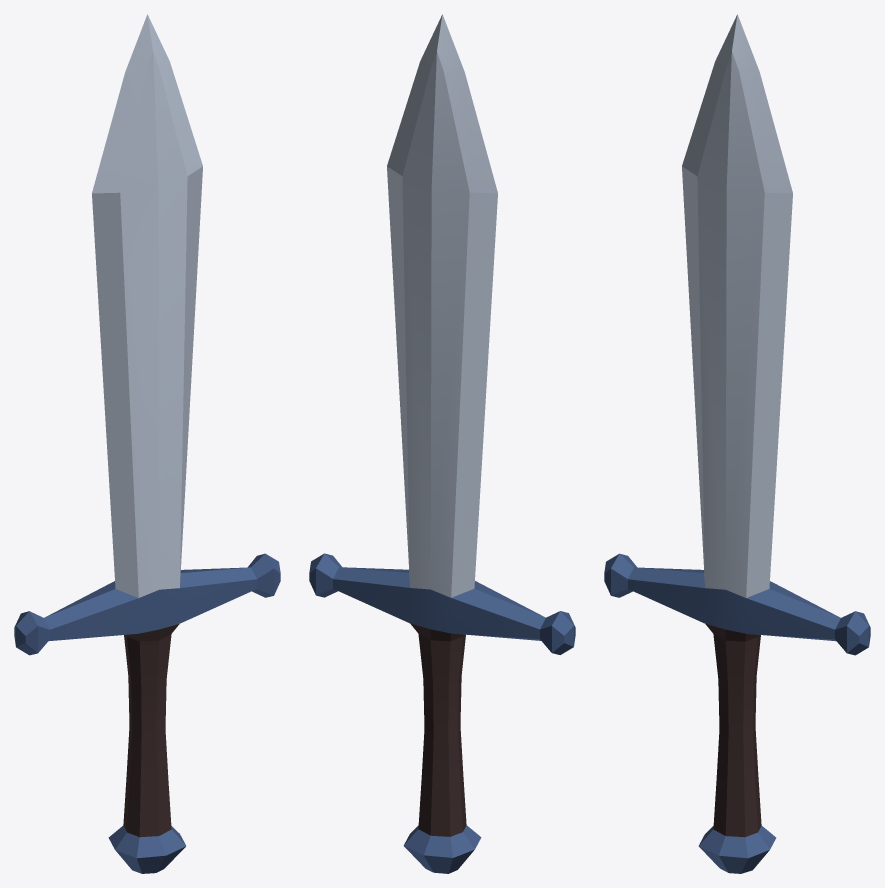
File: sword.fbx
3 views of the same model, side by side, from view 1: azimuth 30°, elevation 25°; view 2: azimuth 150°, elevation 25°; view 3: azimuth 330°, elevation 25° (orthographic).
Parts seen in each view (by area): view 1: Sword; view 2: Sword; view 3: Sword.
Boxes of the visible parts, x1,y1,x2,y2 form: Sword: [14, 14, 280, 873]; Sword: [309, 14, 575, 873]; Sword: [604, 14, 870, 873].
Bounding box in the file's own units: 40.09 × 124 × 9.92.
